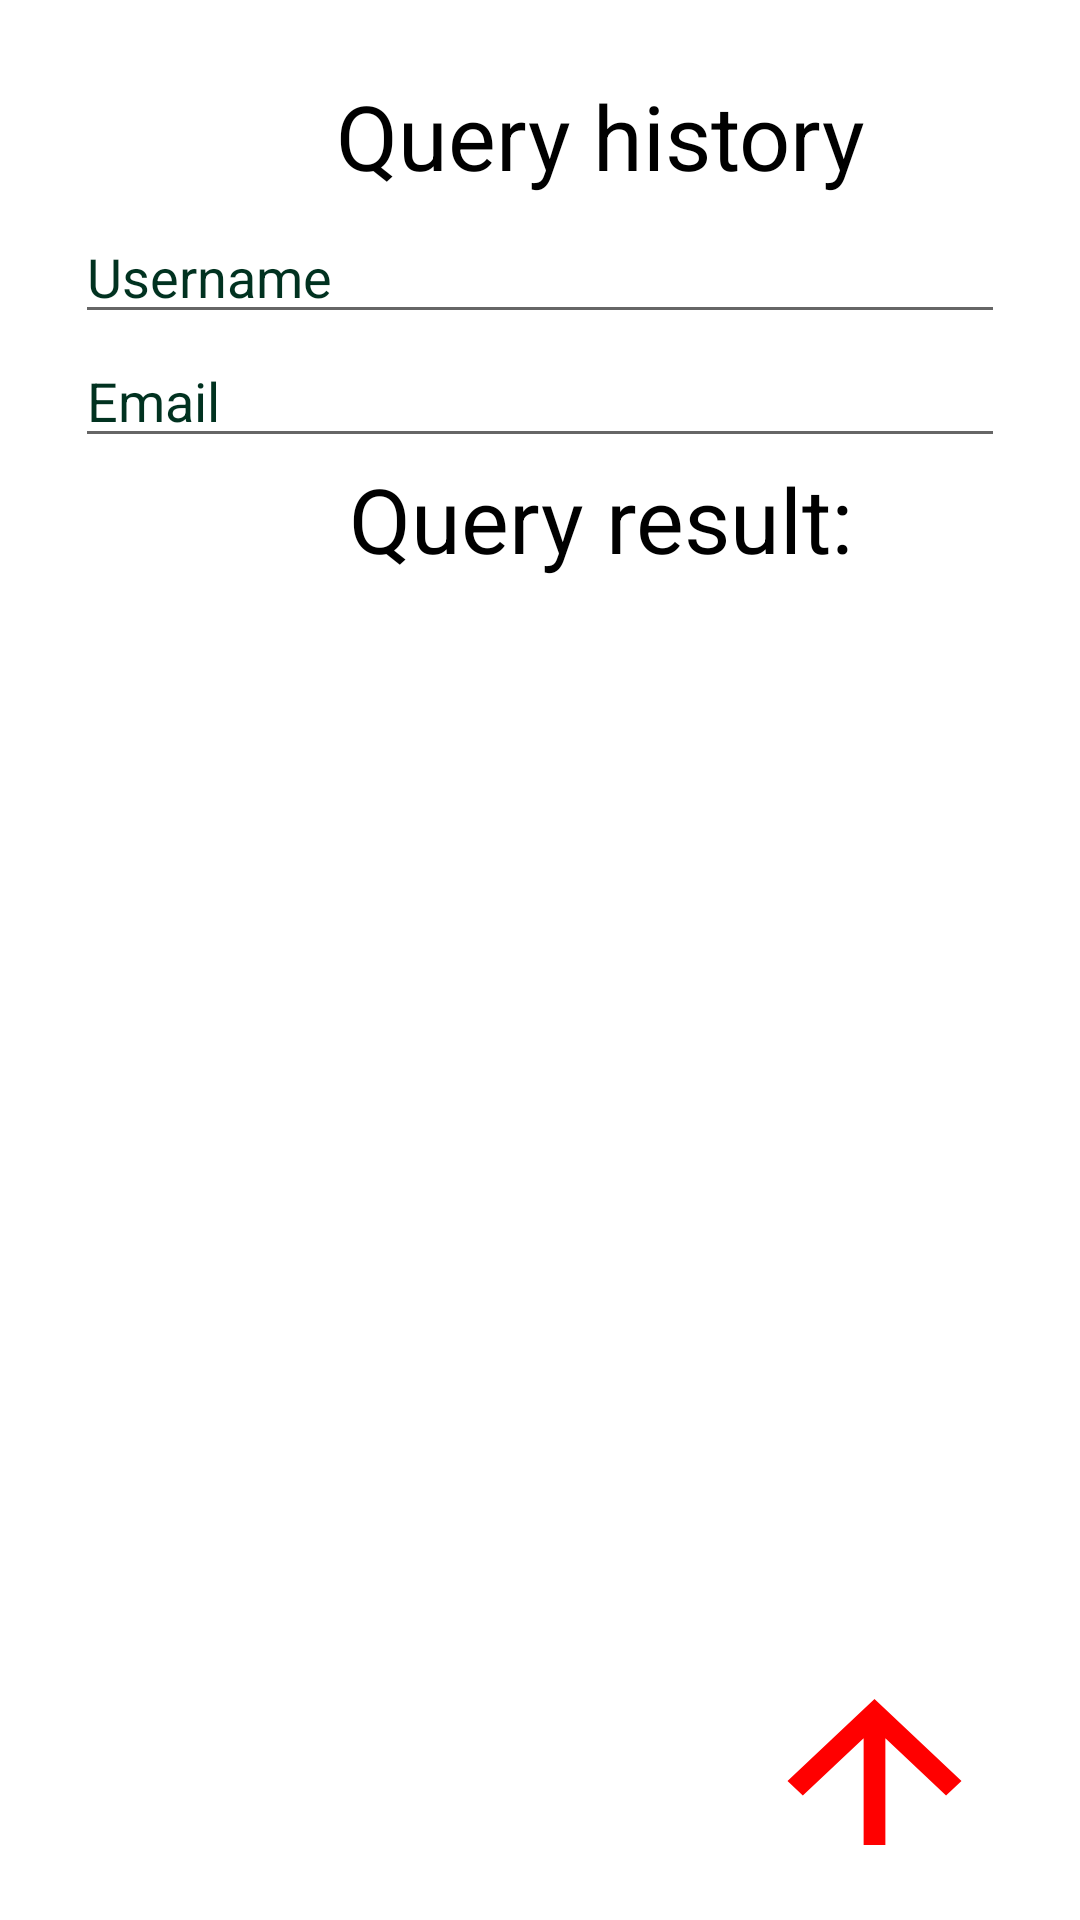

Where to tap for icons on this 1080px×1920px app screen, as [x,y]:
imgupdate: [874,1772]
